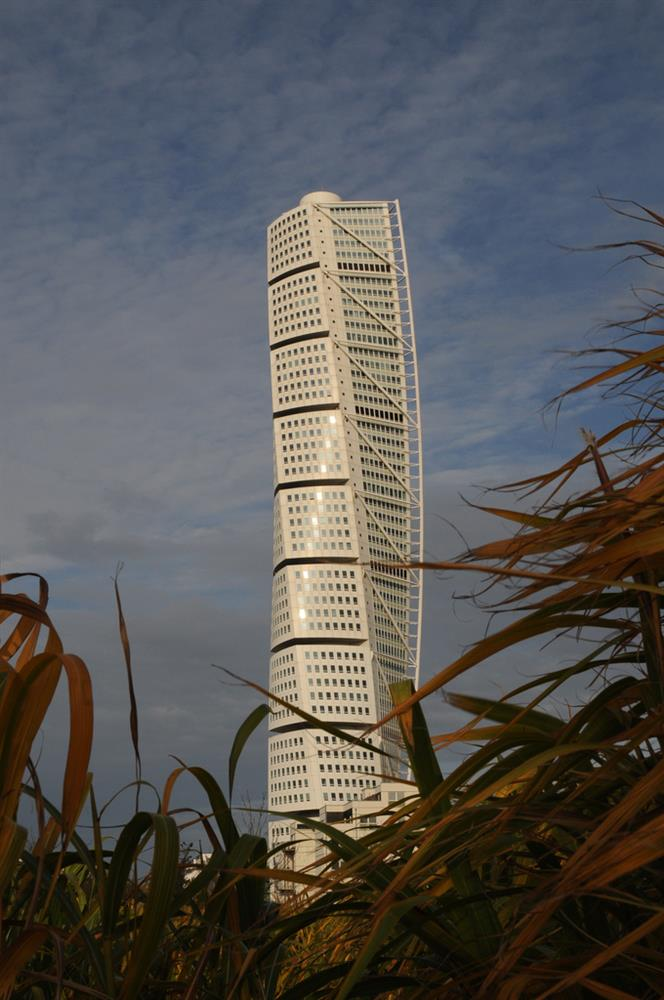turinng_torso: (264, 186, 427, 809)
